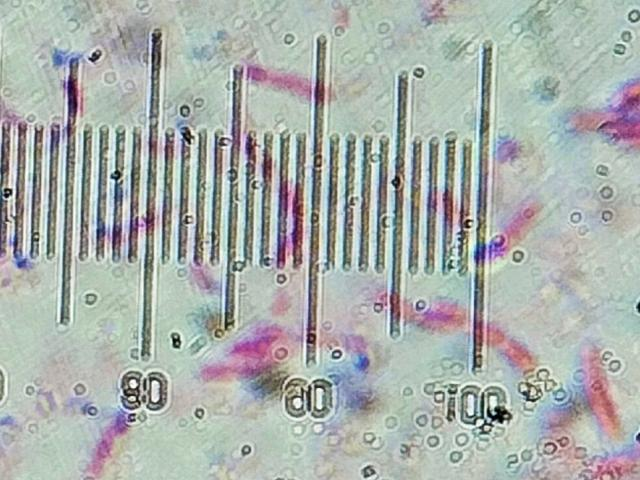E. coli: (575, 349, 624, 438), (248, 66, 343, 94), (91, 410, 129, 477), (485, 326, 533, 369), (413, 296, 462, 335), (203, 359, 266, 385), (315, 330, 361, 359), (236, 327, 280, 357), (502, 209, 538, 245), (579, 105, 622, 127), (618, 117, 640, 146)
